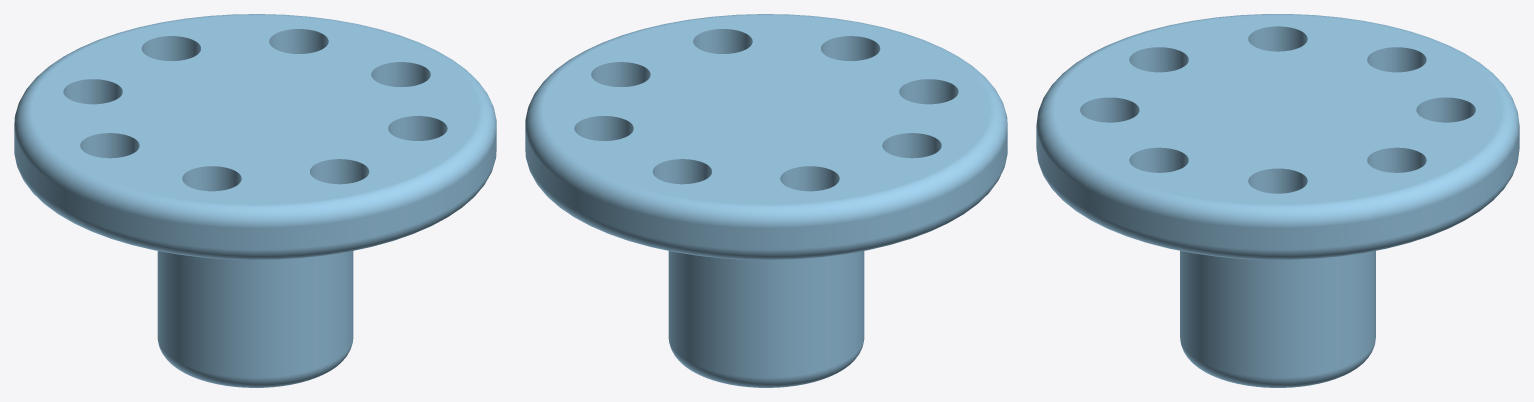
3 views of the same model, side by side, from view 1: azimuth 30°, elevation 25°; view 2: azimuth 150°, elevation 25°; view 3: azimuth 270°, elevation 25° (orthographic).
Parts seen in each view (by area): view 1: mesh233, mesh222, mesh234, mesh235, mesh236, mesh221, mesh228, mesh230, mesh226, mesh229, mesh227, mesh232 (+2 smaller); view 2: mesh233, mesh222, mesh234, mesh235, mesh236, mesh221, mesh230, mesh228, mesh229, mesh226, mesh227, mesh231 (+2 smaller); view 3: mesh233, mesh222, mesh234, mesh235, mesh236, mesh221, mesh226, mesh228, mesh230, mesh227, mesh229, mesh231 (+3 smaller).
Boxes of the visible parts, box(x1,y1,x2,y2) form: mesh233: box(32, 15, 478, 204); mesh222: box(157, 251, 353, 377); mesh234: box(14, 14, 496, 228); mesh235: box(14, 130, 496, 249); mesh236: box(14, 153, 496, 259); mesh221: box(157, 339, 352, 387); mesh228: box(182, 166, 241, 191); mesh230: box(63, 79, 122, 104); mesh226: box(310, 159, 369, 184); mesh229: box(80, 133, 139, 158); mesh227: box(371, 62, 430, 87); mesh232: box(388, 116, 447, 140); mesh233: box(543, 15, 989, 204); mesh222: box(668, 251, 864, 377); mesh234: box(525, 14, 1007, 228); mesh235: box(525, 130, 1007, 249); mesh236: box(525, 153, 1007, 259); mesh221: box(669, 339, 864, 387); mesh230: box(780, 166, 839, 191); mesh228: box(899, 79, 958, 104); mesh229: box(882, 133, 941, 158); mesh226: box(821, 36, 880, 60); mesh227: box(591, 62, 650, 87); mesh231: box(574, 116, 633, 140); mesh233: box(1054, 15, 1501, 204); mesh222: box(1180, 251, 1375, 377); mesh234: box(1036, 14, 1519, 228); mesh235: box(1036, 127, 1519, 249); mesh236: box(1036, 148, 1519, 259); mesh221: box(1180, 340, 1375, 387); mesh226: box(1080, 97, 1139, 122); mesh228: box(1129, 47, 1188, 72); mesh230: box(1367, 47, 1426, 72); mesh227: box(1248, 168, 1307, 193); mesh229: box(1248, 26, 1307, 51); mesh231: box(1367, 147, 1426, 172).
Size of the model in its own units: 0.0325 by 0.018 by 0.0325.
